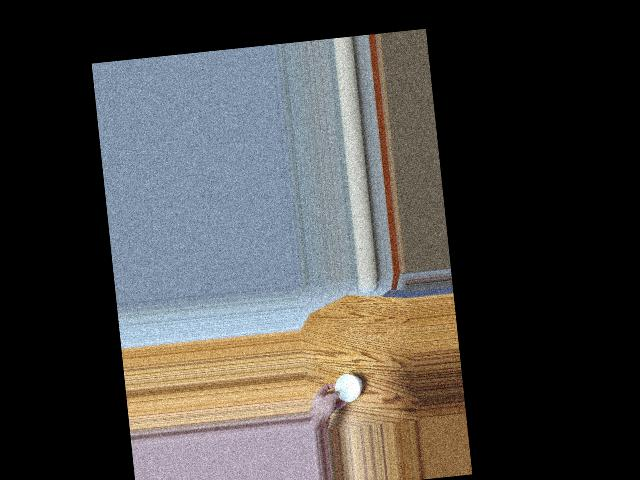cotage: (331, 368, 362, 403)
